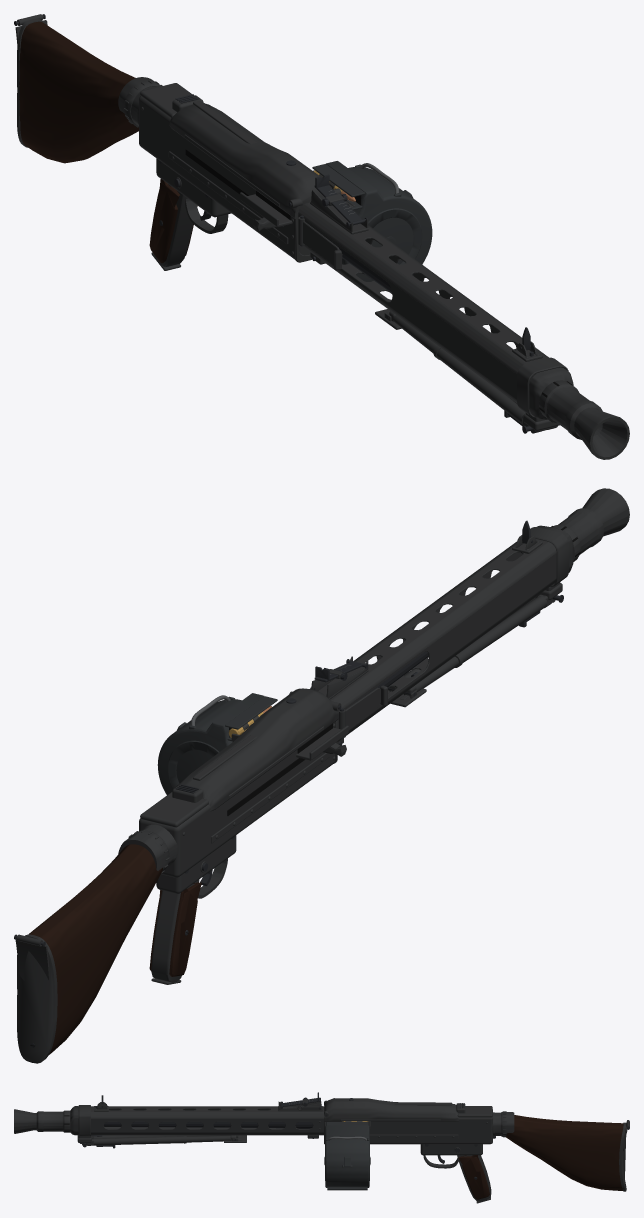
3 views of the same model, one above another, from view 1: azimuth 30°, elevation 25°; view 2: azimuth 150°, elevation 25°; view 3: azimuth 270°, elevation 25° (orthographic). The views are drawn at different scales.
Parts seen in each view (by area): view 1: mg42-body, object 6, object 2; view 2: mg42-body, object 2, object 6; view 3: mg42-body, object 3, object 2.
Part boxes in pixels (bbox=[...]): mg42-body: bbox=[14, 14, 629, 459]; object 6: bbox=[149, 179, 179, 263]; object 2: bbox=[153, 184, 193, 266]; mg42-body: bbox=[14, 488, 629, 1063]; object 2: bbox=[151, 879, 199, 982]; object 6: bbox=[169, 882, 201, 976]; mg42-body: bbox=[14, 1092, 629, 1191]; object 3: bbox=[458, 1155, 489, 1199]; object 2: bbox=[457, 1155, 491, 1201].
Size of the model in its own units: 0.2007 by 0.2358 by 1.23.
